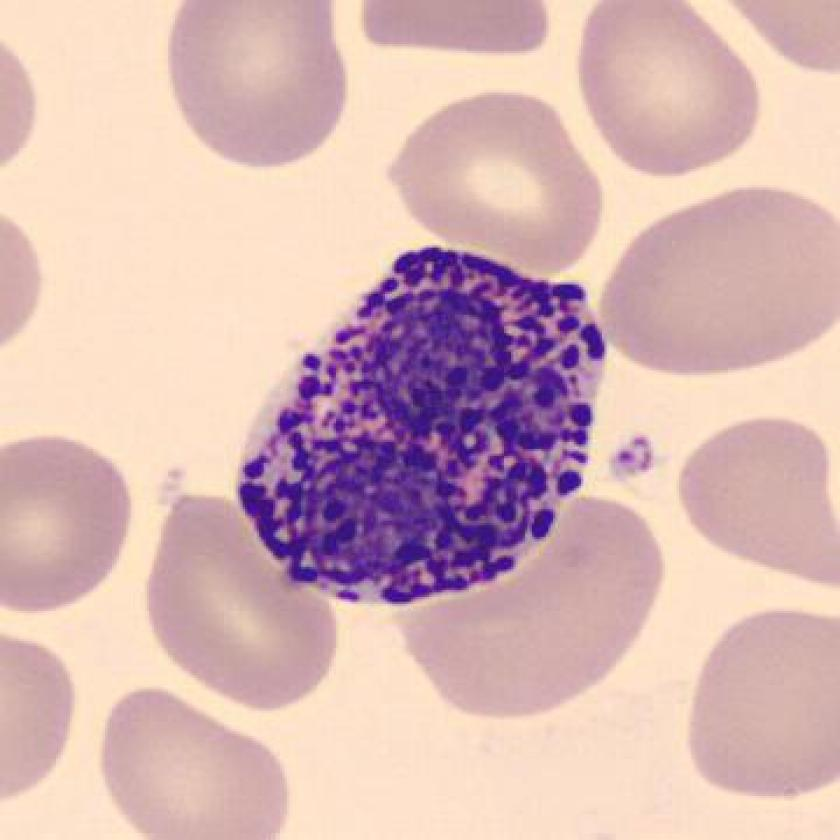basophil: (221, 244, 606, 612)
